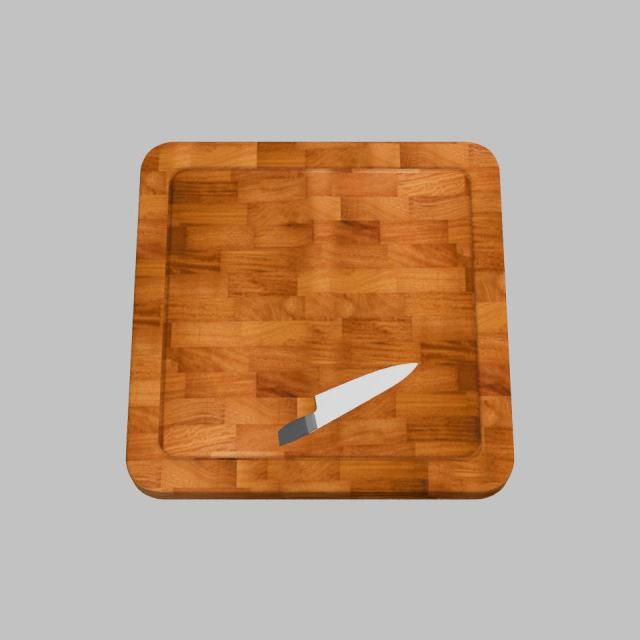knife: (233, 416, 309, 474)
